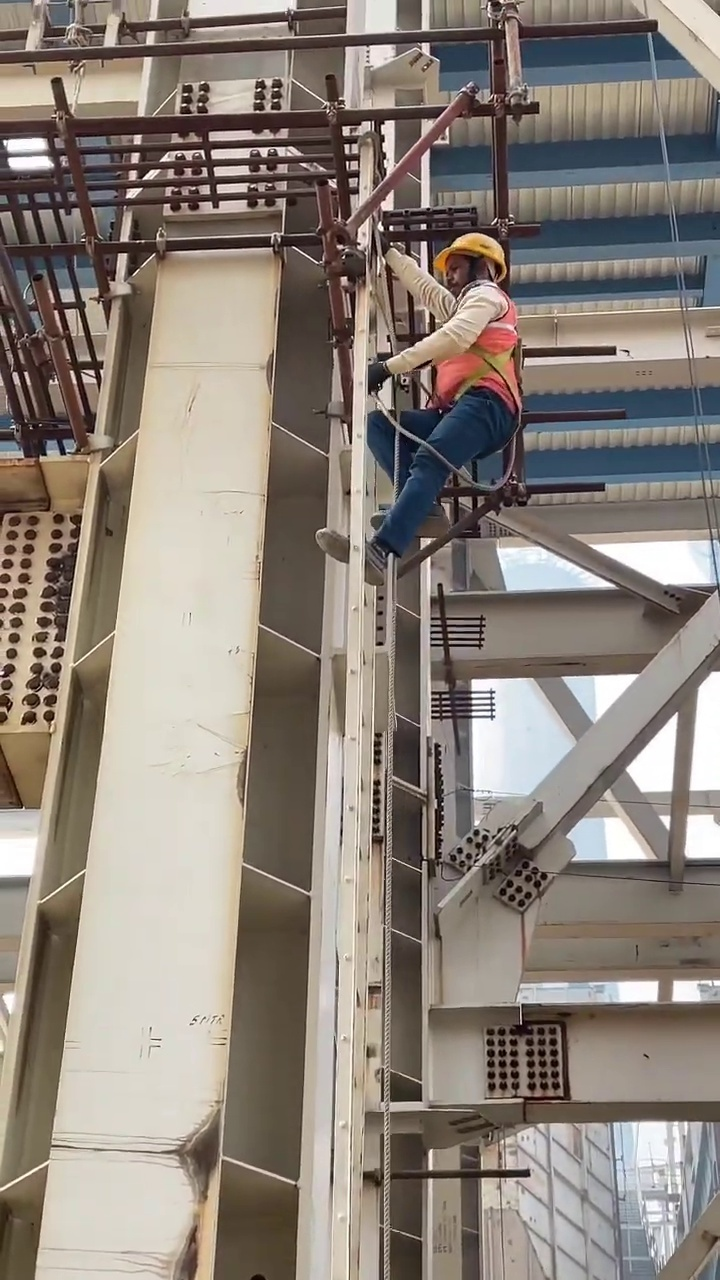Helmet: (438, 230, 509, 267)
Person: (306, 230, 525, 583)
Safety_Harness: (412, 281, 527, 489)
Safety_shoes: (314, 525, 387, 583), (377, 508, 448, 539)
